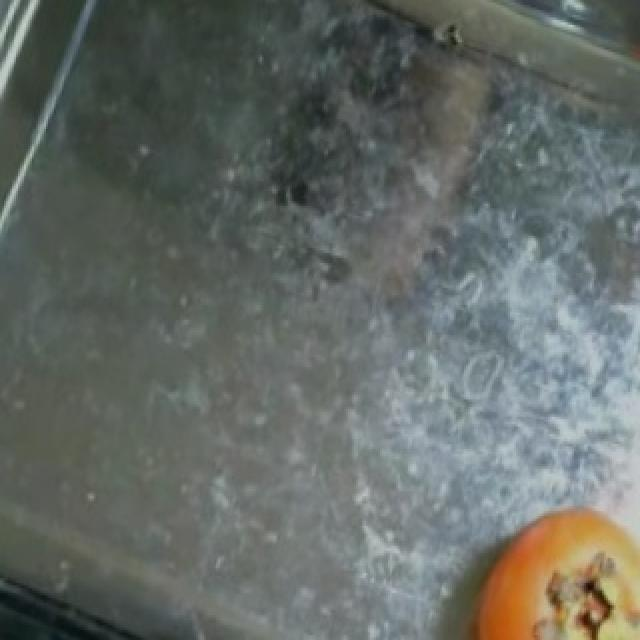Fruit: (440, 486, 638, 640)
